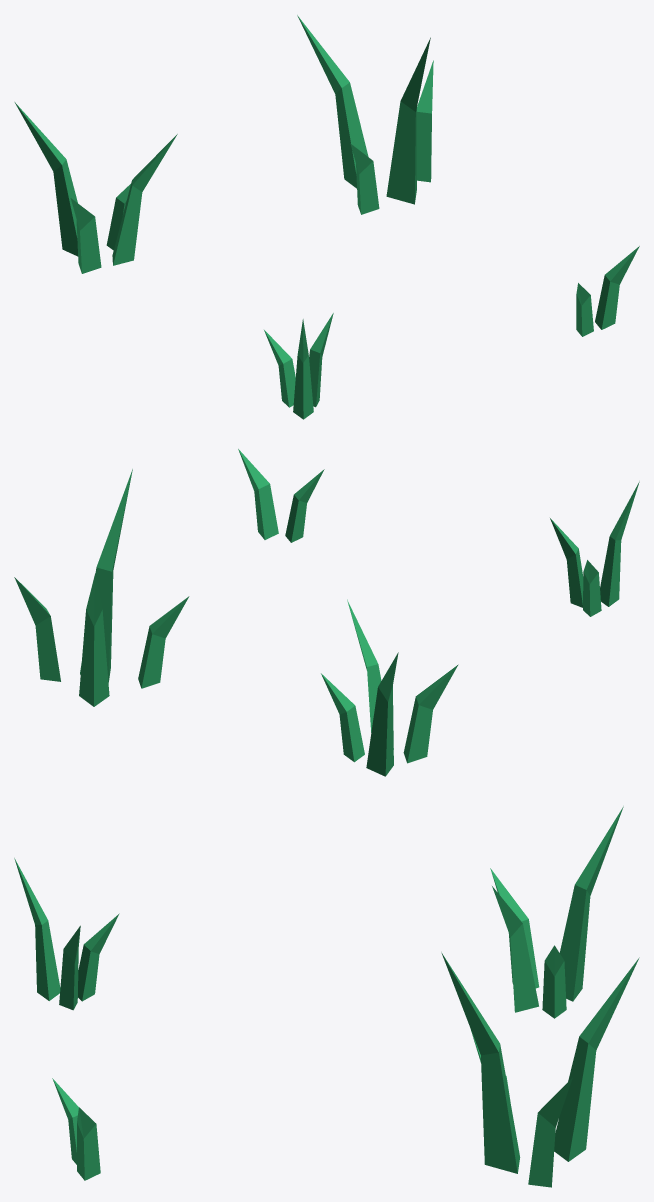
File: low_poly_grass_pack.glb
The picture shows the model from 3 angles, top to bottom: view 1: azimuth 30°, elevation 25°; view 2: azimuth 150°, elevation 25°; view 3: azimuth 270°, elevation 25°; orthographic projection. The views are drawn at different scales.
Visible parts, largest first — view 1: Circle.012, Circle.005, Circle.015, Circle.018; view 2: Circle.012, Circle.005, Circle.015, Circle.018; view 3: Circle.012, Circle.005, Circle.015, Circle.018.
Part boxes in pixels (x1,y1,x2,y2): Circle.012: (297, 15, 433, 214); Circle.005: (14, 102, 177, 273); Circle.015: (264, 313, 333, 419); Circle.018: (576, 246, 639, 336); Circle.012: (14, 469, 189, 706); Circle.005: (321, 599, 458, 776); Circle.015: (550, 481, 639, 616); Circle.018: (238, 449, 324, 542); Circle.012: (441, 952, 639, 1187); Circle.005: (490, 806, 623, 1018); Circle.015: (14, 858, 119, 1010); Circle.018: (52, 1078, 100, 1180).
Size of the model in its own units: 150 by 65.38 by 175.
